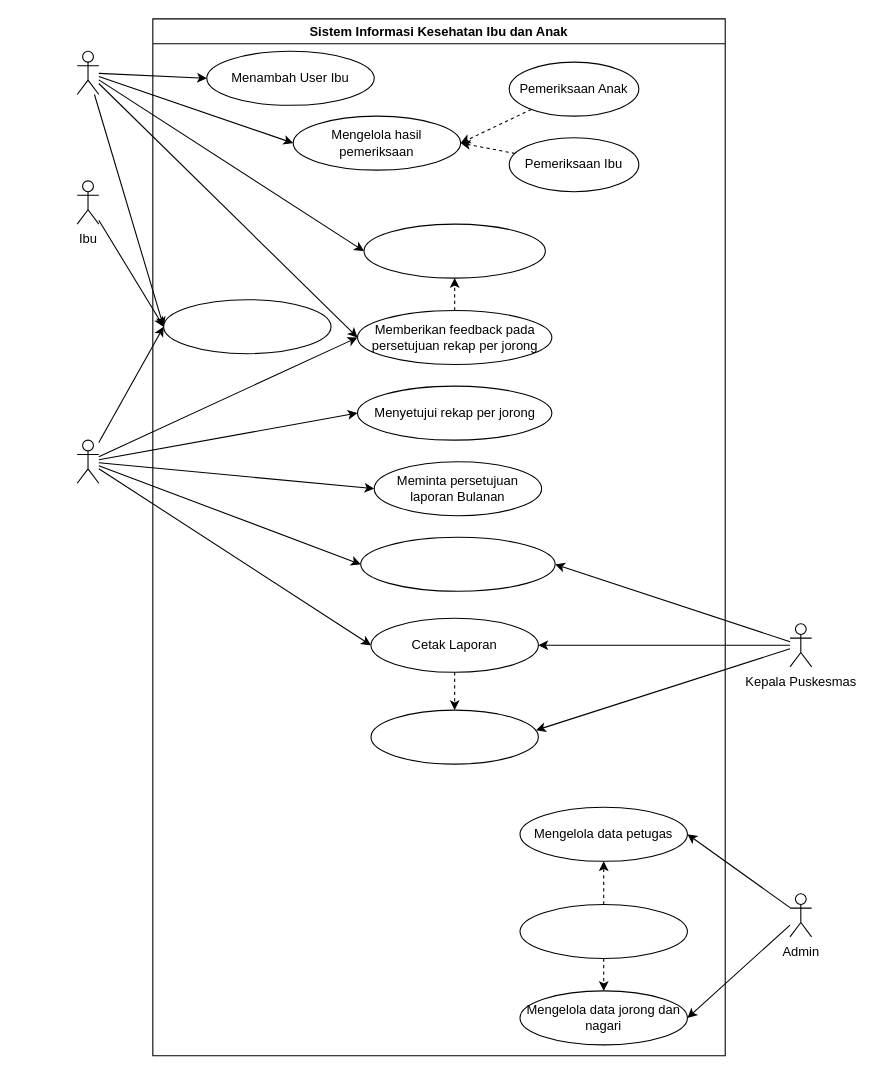
Image size: 875x1075. Some labels were removed from this diagram. Each missing label, with the centre of its shape:
"Bidan" goes at (x=87, y=72).
"Melihat hasil pemeriksaan" goes at (x=247, y=326).
"Memberikan feedback pada persetujuan laporan bulanan" goes at (x=457, y=563).
"Meminta persetujuan rekap per jorong" goes at (x=454, y=250).
"Mengelola Penempatan Bidan" goes at (x=603, y=931).
"Meyetujui laporan" goes at (x=454, y=736).
"Penanggung Jawab KIA" goes at (x=87, y=461).
